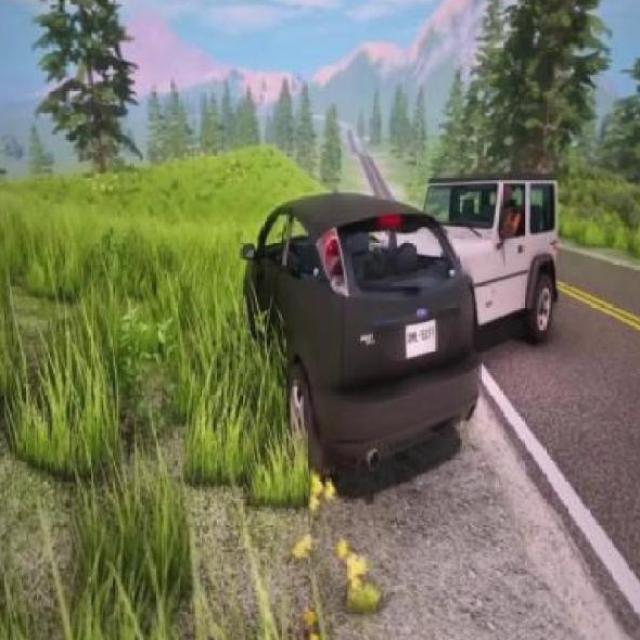accident: (242, 164, 570, 484)
